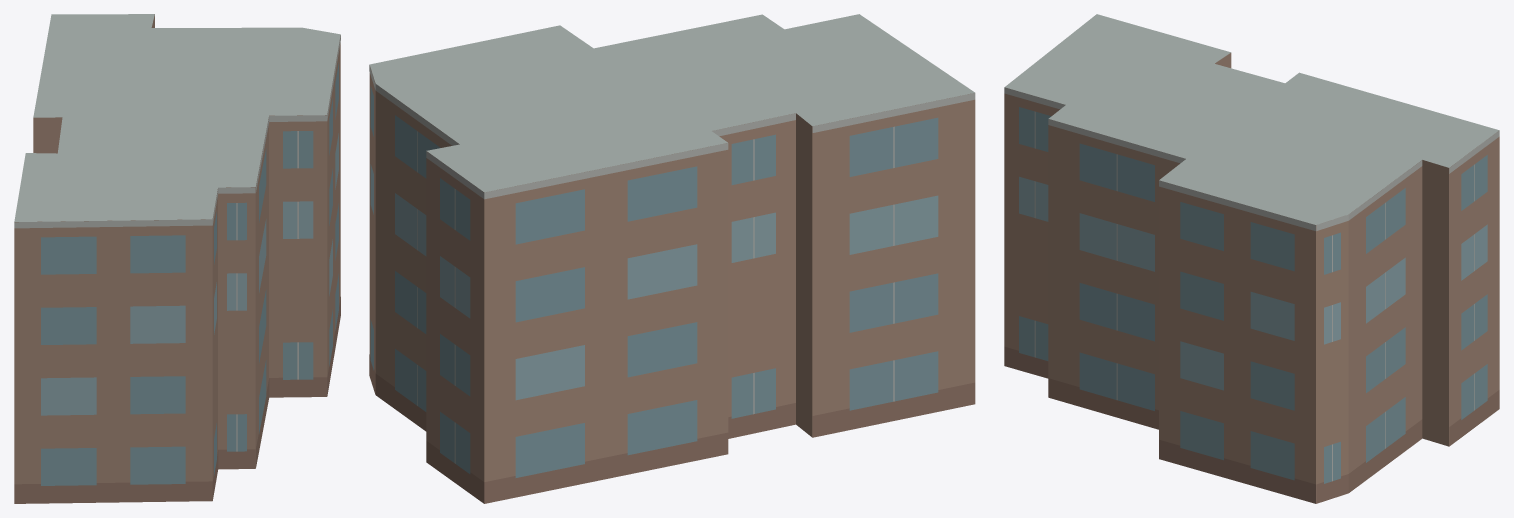
Rendered from survey-upis-32456476.glb.
3 views of the same model, side by side, from view 1: azimuth 30°, elevation 25°; view 2: azimuth 150°, elevation 25°; view 3: azimuth 270°, elevation 25° (orthographic). The views are drawn at different scales.
Visible parts, largest first — view 1: survey-upis-32456476.tmp; view 2: survey-upis-32456476.tmp; view 3: survey-upis-32456476.tmp.
Boxes of the visible parts, x1,y1,x2,y2 form: survey-upis-32456476.tmp: [14, 14, 340, 503]; survey-upis-32456476.tmp: [369, 14, 975, 503]; survey-upis-32456476.tmp: [1004, 14, 1499, 503].
Size of the model in its own units: 17.86 by 10.99 by 17.7.
